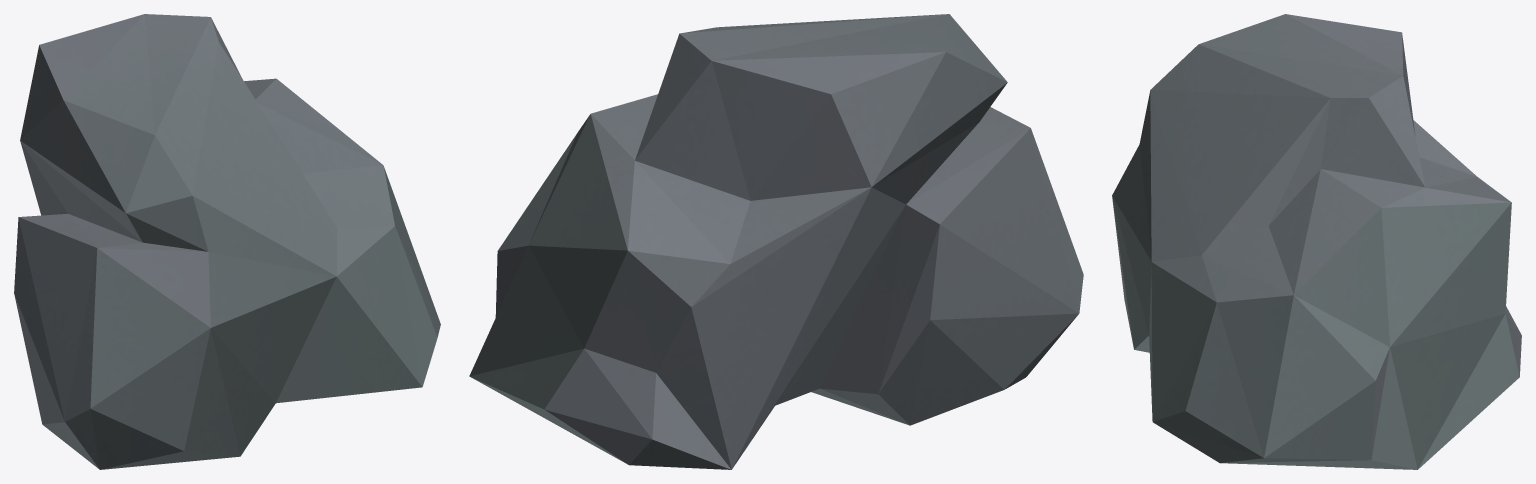
The model's file is Rock_Big_2.fbx.
3 renders of one model, left to right at view 1: azimuth 30°, elevation 25°; view 2: azimuth 150°, elevation 25°; view 3: azimuth 270°, elevation 25°, orthographic. The views are drawn at different scales.
Parts seen in each view (by area): view 1: Group14224; view 2: Group14224; view 3: Group14224.
Part boxes in pixels (left/top/right/bottom): Group14224: left=14, top=14, right=440, bottom=469; Group14224: left=469, top=14, right=1083, bottom=469; Group14224: left=1112, top=14, right=1521, bottom=469.
Size of the model in its own units: 655 by 497 by 596.
